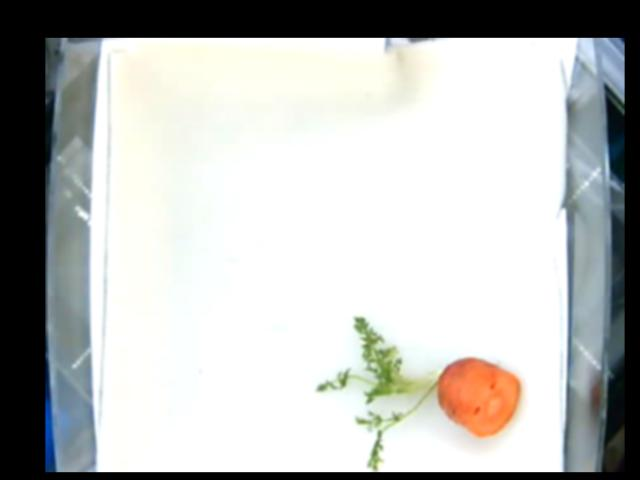Carrot: (314, 315, 521, 470)
